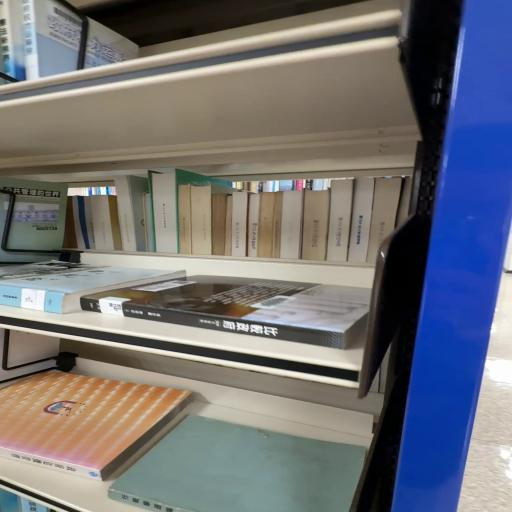flat: (109, 416, 366, 512), (82, 276, 371, 350), (1, 372, 193, 482), (1, 261, 186, 315)
